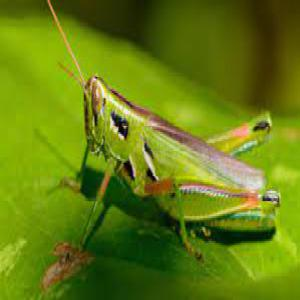locust: (67, 53, 300, 263)
